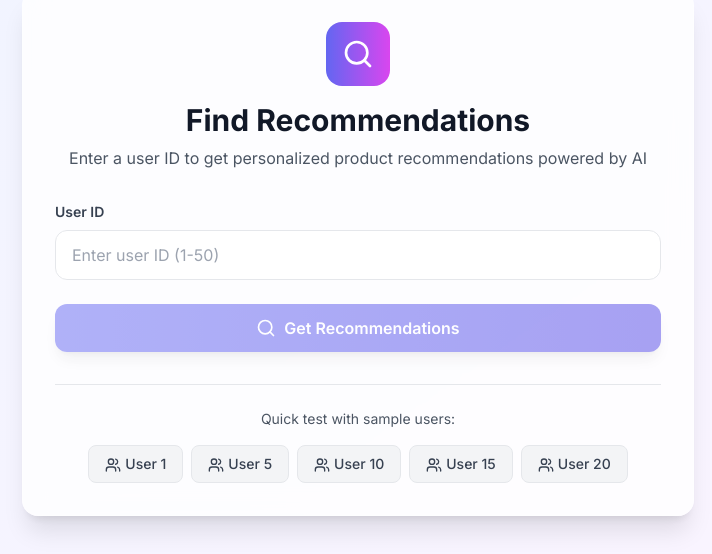
Test: UserInputForm › handles sample user clicks
Click the button "User 10" at point(349, 464), box [297,445,401,483]
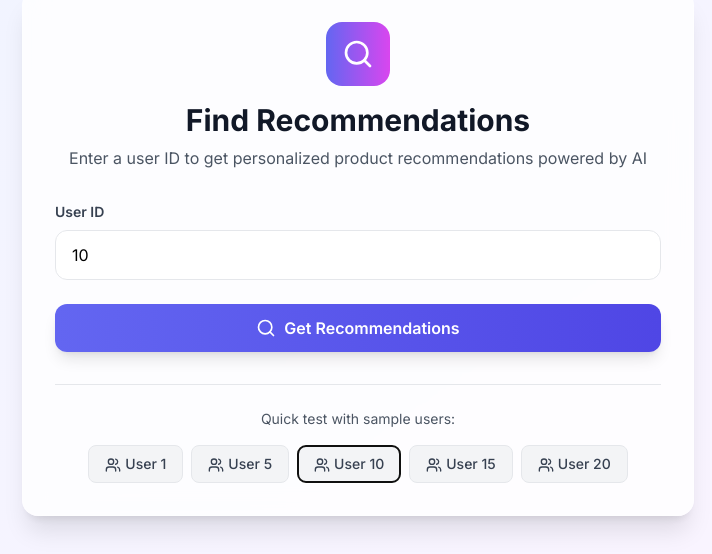
Result: the number field showing "10" is shown at [55,230,661,280]
